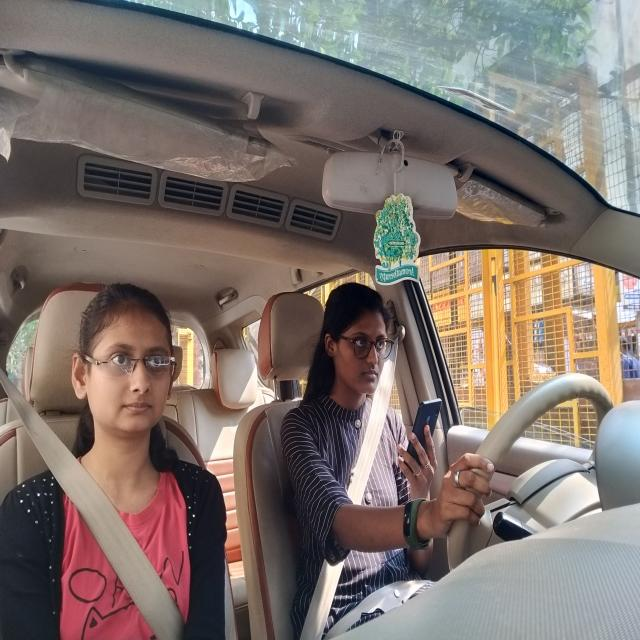mobile: (404, 393, 453, 487)
person: (71, 278, 181, 448), (322, 283, 393, 403)
